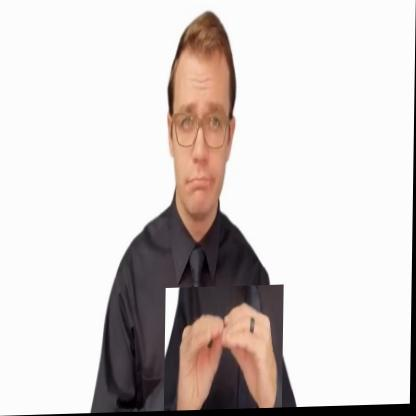Fix: (165, 286, 285, 412)
